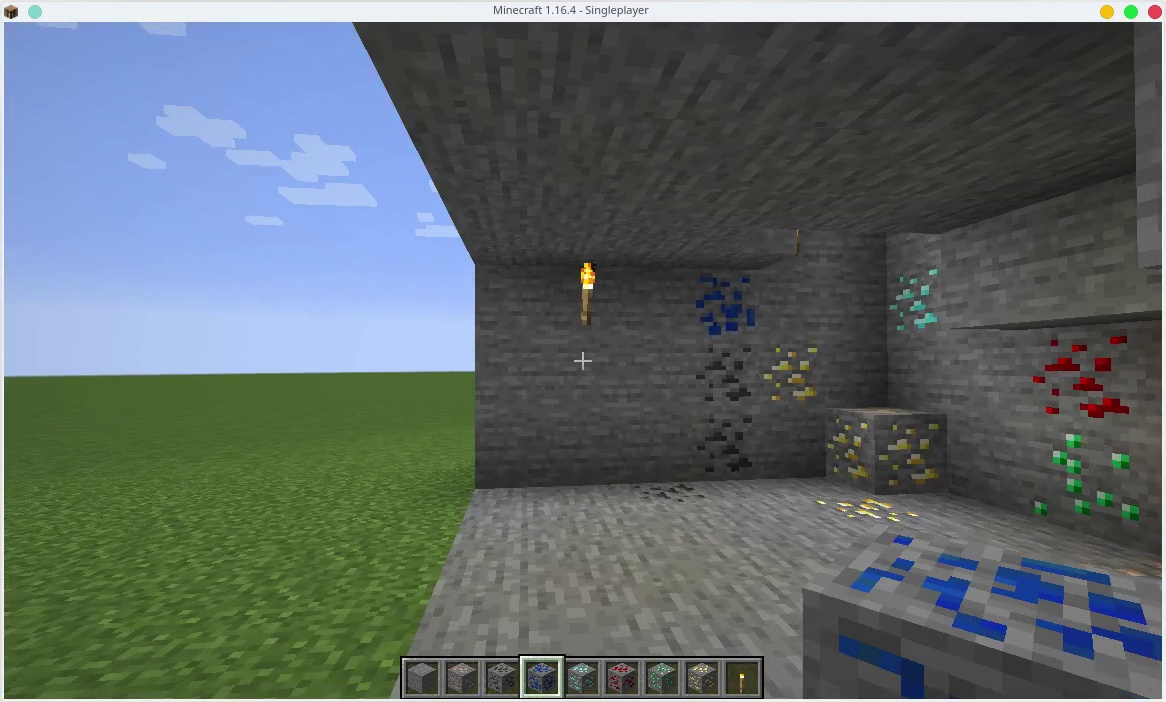gold: (826, 408, 943, 485), (757, 344, 822, 407), (815, 491, 924, 527), (688, 662, 718, 693)
